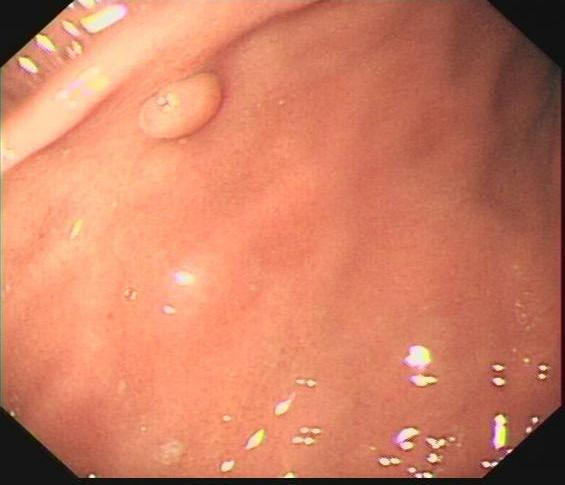Polyp: (134, 70, 224, 141)
